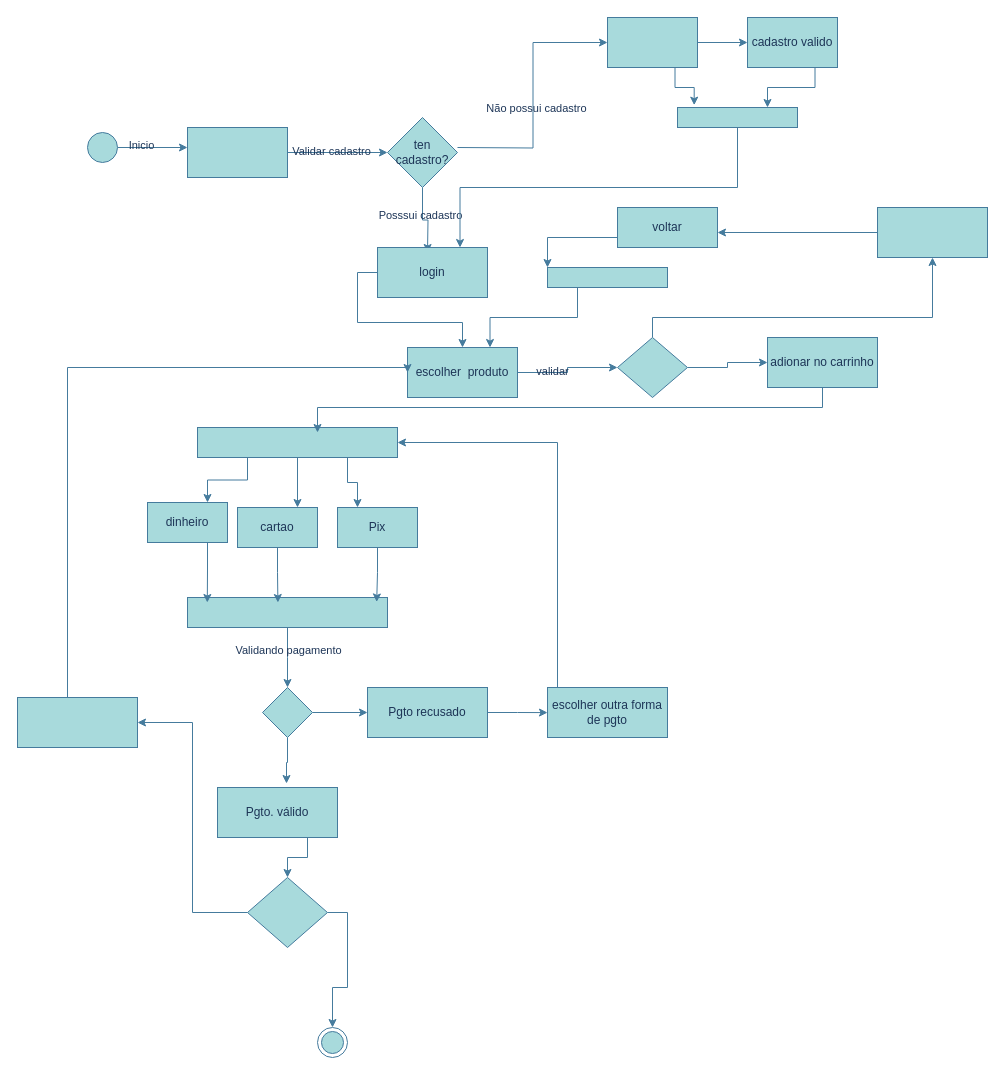
This 1005x1075 diagram has some shape labels left out. The shapes that lost their labels are listed below. From the top down, each one's box as (x1, y1, x2, y2) in pixels, then its label:
(606, 16, 698, 68): cadastrar
(186, 126, 288, 178): Acesso ao app
(876, 206, 988, 258): não
(616, 336, 688, 398): prod. dispon
(16, 696, 138, 748): compra novamente
(246, 876, 328, 948): comprar +?
